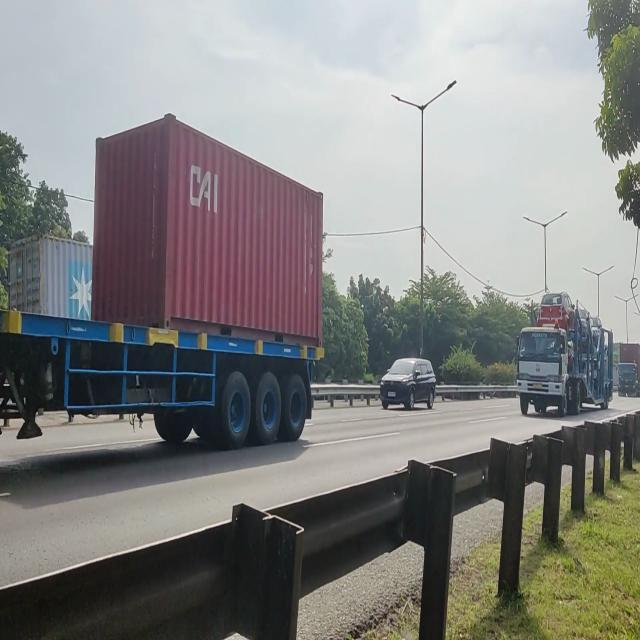Golongan I: (376, 350, 444, 414)
